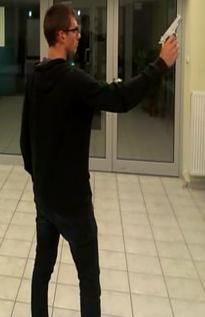pistol: (157, 14, 183, 57)
